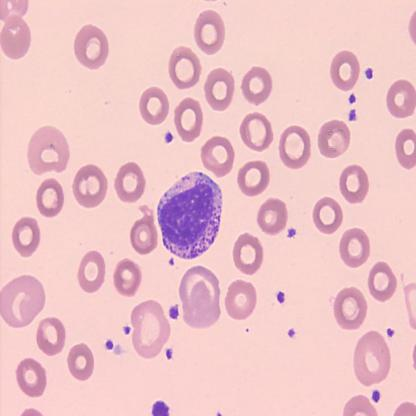Myelocyte: (157, 170, 224, 259)
